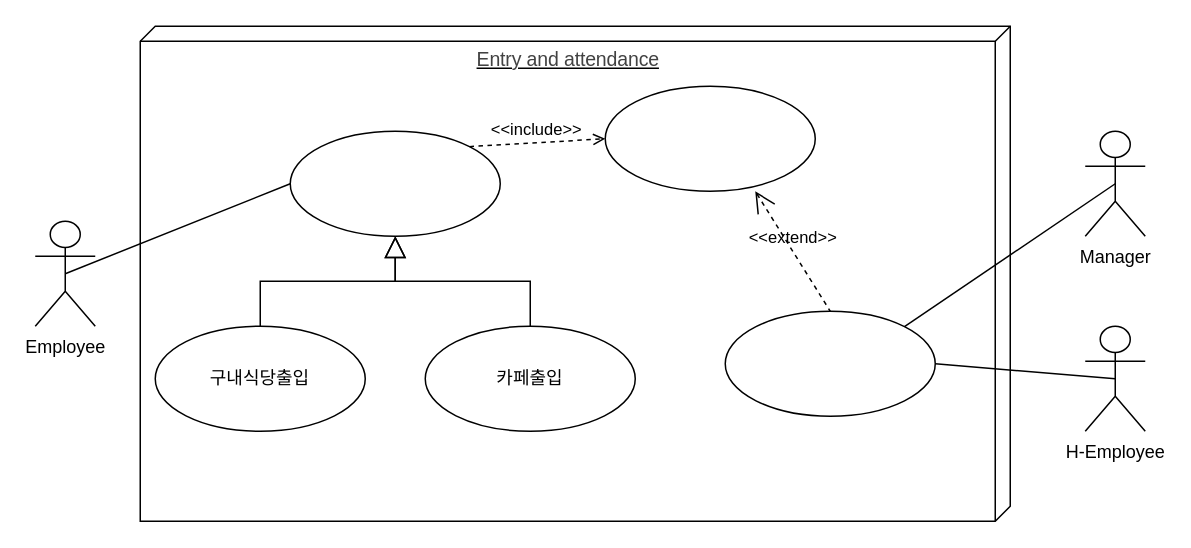
The diagram is 1191 pixels wide and 548 high, and some of its shapes have lost their labels. The centre of each missing label's shape, as x and y in pixels:
건물출입: point 394,183
자동 출근 반영: point 709,138
출근부 열람: point 829,363
